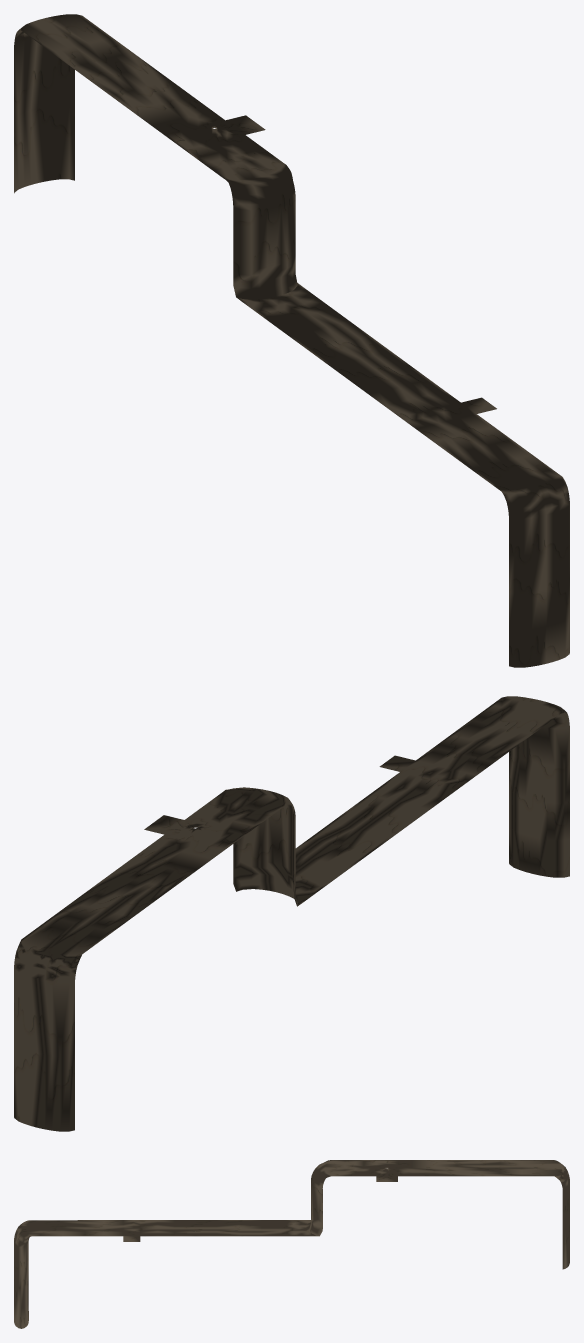
Rendered from stg210_MotChocoA_16.obj.
3 renders of one model, top to bottom at view 1: azimuth 30°, elevation 25°; view 2: azimuth 150°, elevation 25°; view 3: azimuth 270°, elevation 25°, orthographic. The views are drawn at different scales.
Parts seen in each view (by area): view 1: polygon1, polygon0; view 2: polygon1, polygon0; view 3: polygon0, polygon1.
Boxes of the visible parts, x1,y1,x2,y2 form: polygon1: (14,14,297,299); polygon0: (236,283,569,667); polygon1: (14,787,297,1131); polygon0: (295,696,569,906); polygon0: (14,1220,318,1328); polygon1: (309,1160,569,1269).
Size of the model in its own units: 309 by 1024 by 3323.
1 material, 1 textured.
